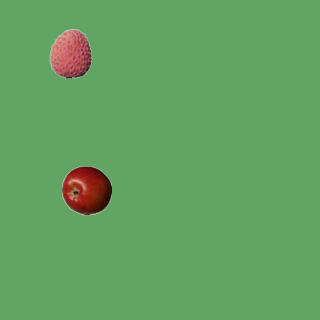Apple Braeburn: (61, 165, 111, 215)
Lychee: (45, 28, 95, 78)
